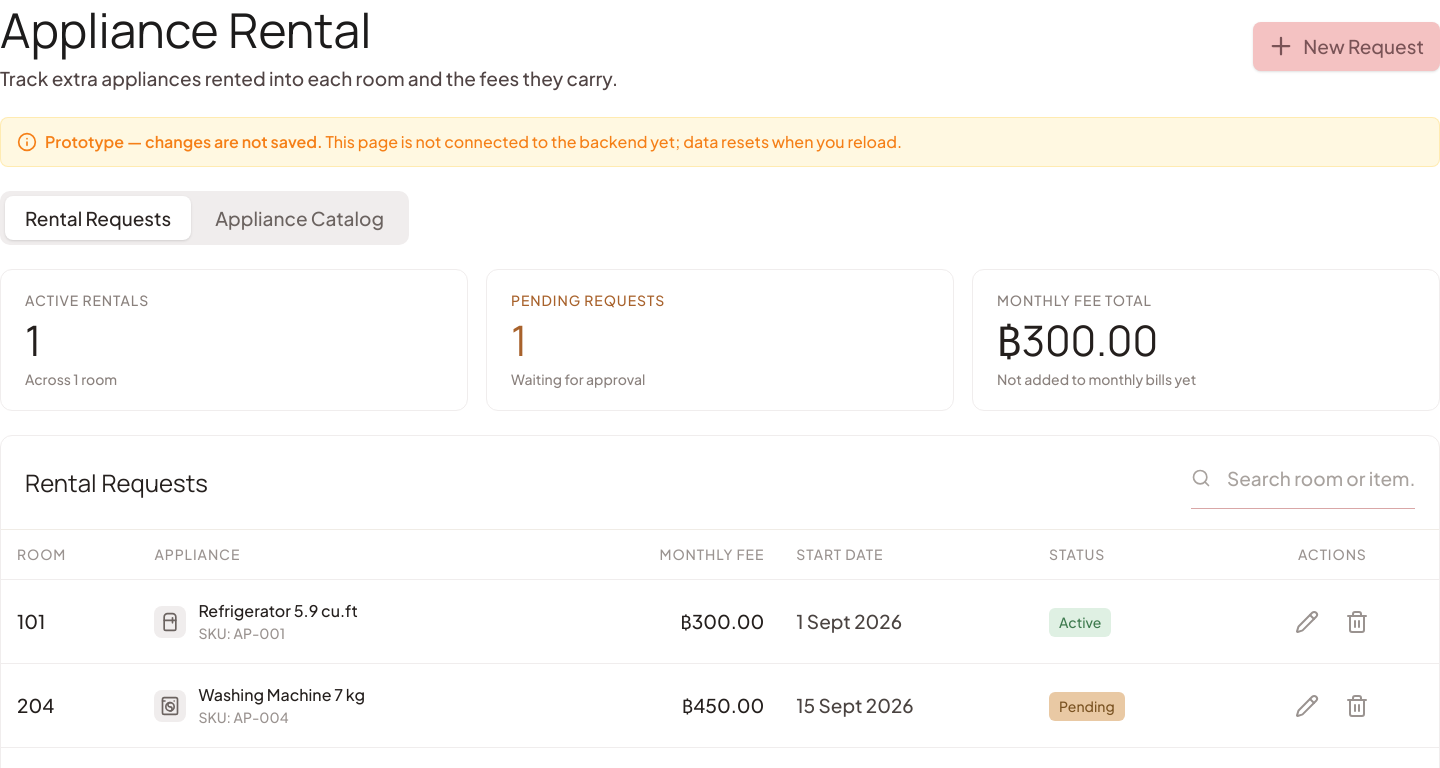
Test case: SSK-96 Rental Requests tab › keeps the rental request when deletion is canceled (BUG-A2)
This screenshot has width=1440, height=768.
What coordinates should you click on to do the following:
click the button named "Delete request for unit 101"
I would click on:
 (1357, 622)
Its box is [1335,600,1379,644].
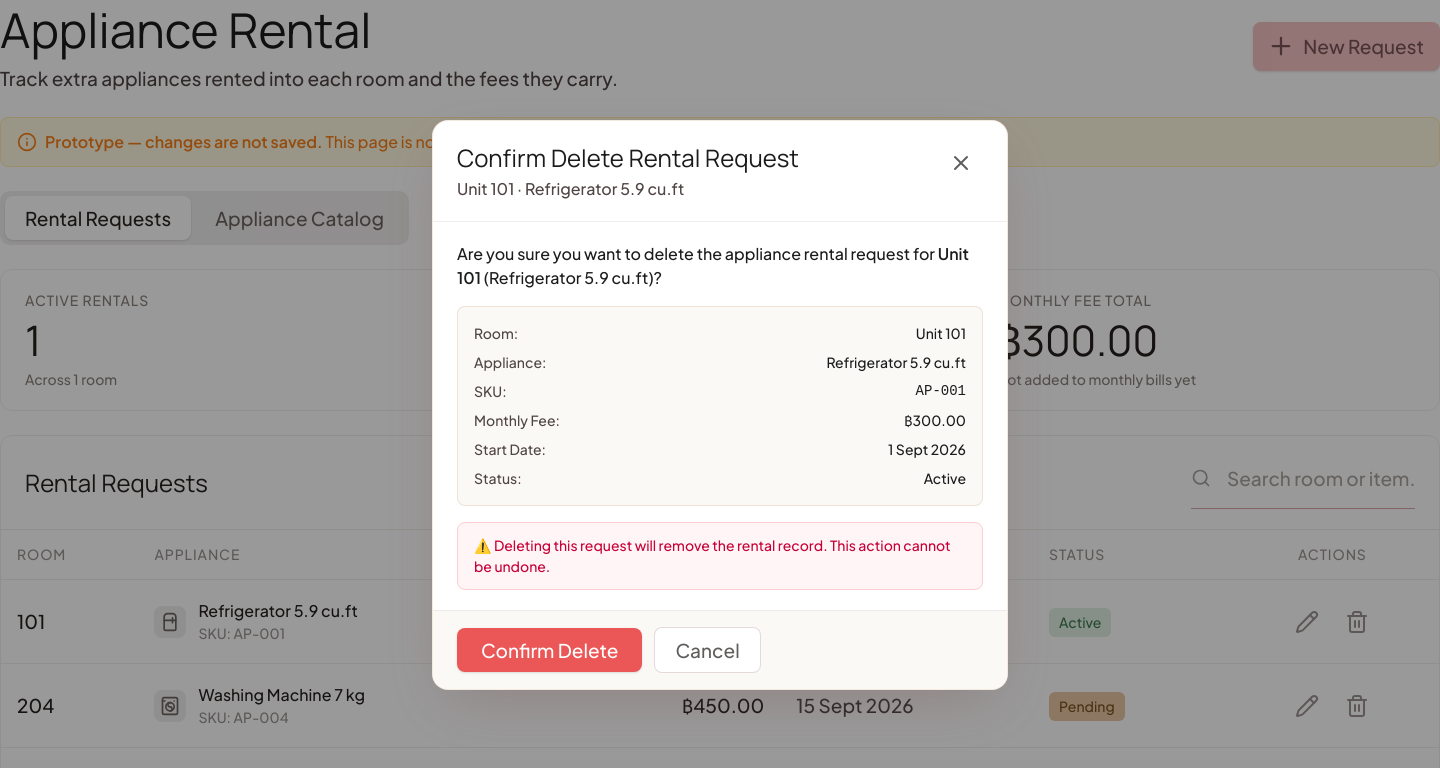
What coordinates should you click on to do the following:
click the button "Cancel"
I would click on:
 (708, 650)
Its box is [654,626,761,673].
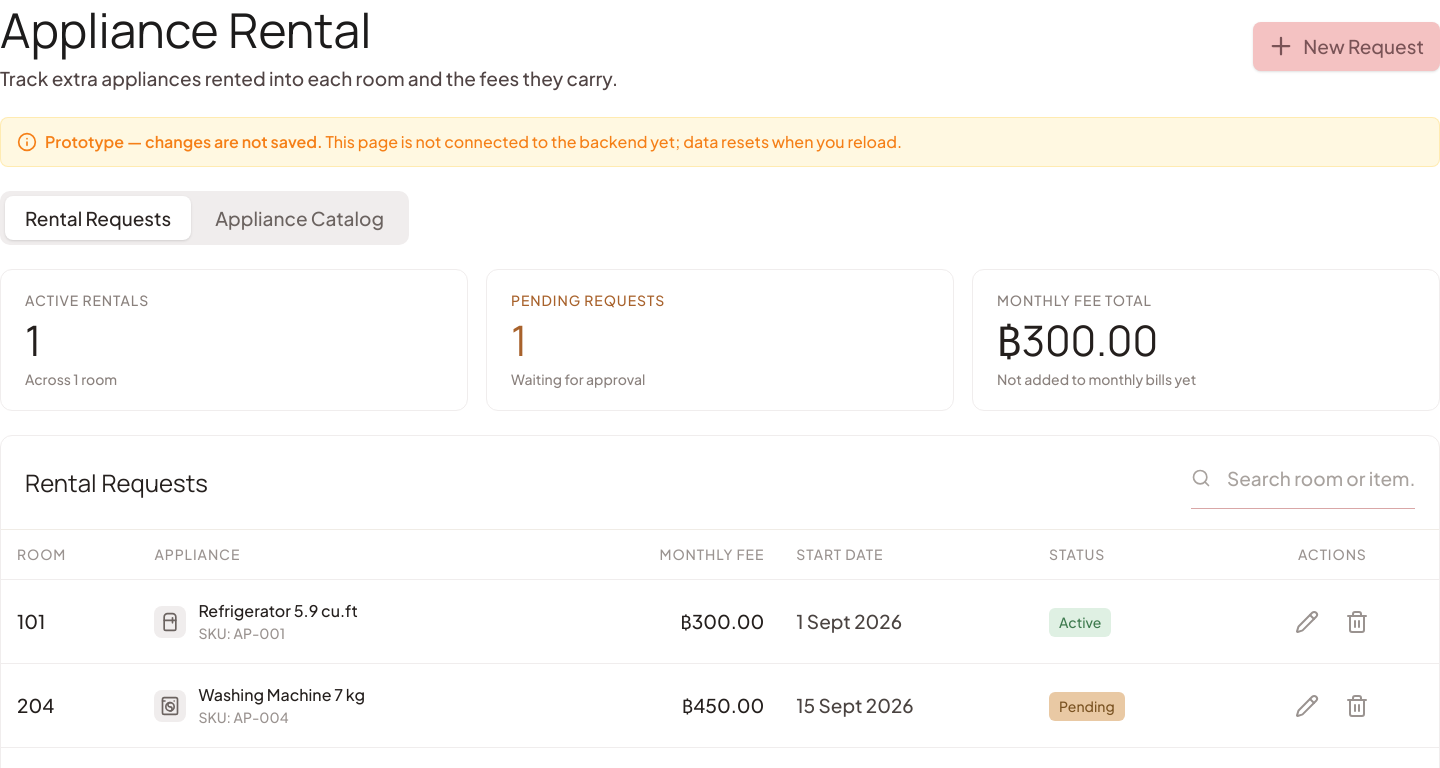
Check: the text "101" is shown, box [1,580,138,664]
Check: the dialog is gone
